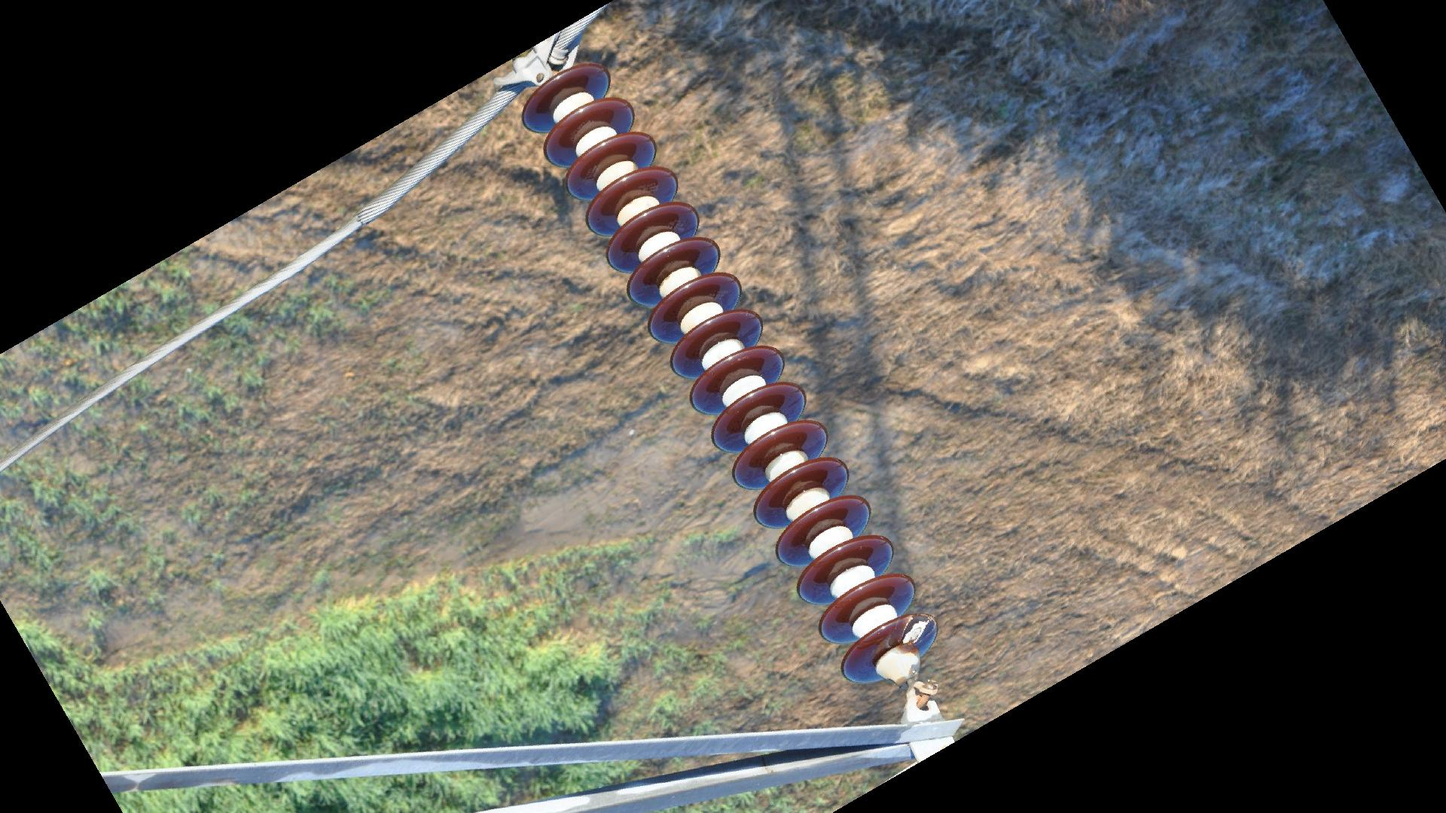insulator: (514, 58, 941, 687)
insulator_flashover: (898, 613, 932, 647)
